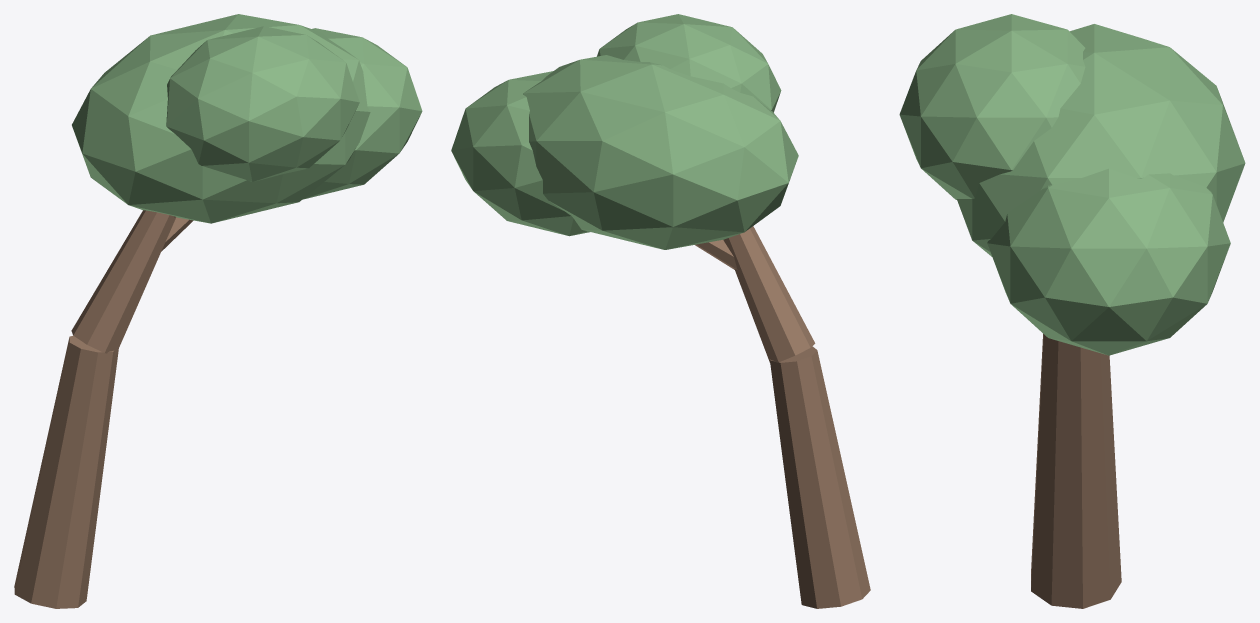
The model's file is tree_e_windswept.glb.
3 renders of one model, left to right at view 1: azimuth 30°, elevation 25°; view 2: azimuth 150°, elevation 25°; view 3: azimuth 270°, elevation 25°, orthographic. The views are drawn at different scales.
Parts seen in each view (by area): view 1: canopy_0, canopy_2, trunk_a, canopy_1, trunk_b; view 2: canopy_0, trunk_a, canopy_1, canopy_2, trunk_b, branch_long; view 3: canopy_1, canopy_0, canopy_2, trunk_a.
Part boxes in pixels (x1,y1,x2,y2): canopy_0: (72,14,370,223); canopy_2: (166,26,359,181); trunk_a: (14,335,118,608); canopy_1: (303,28,422,199); trunk_b: (71,210,176,355); canopy_0: (523,55,798,249); trunk_a: (770,346,870,608); canopy_1: (451,71,589,236); canopy_2: (597,14,781,112); trunk_b: (723,226,815,362); branch_long: (695,240,737,269); canopy_1: (987,168,1230,355); canopy_0: (957,24,1245,256); canopy_2: (899,14,1085,199); trunk_a: (1031,334,1121,608).
Size of the model in its own units: 6.01 by 7.59 by 3.55.
